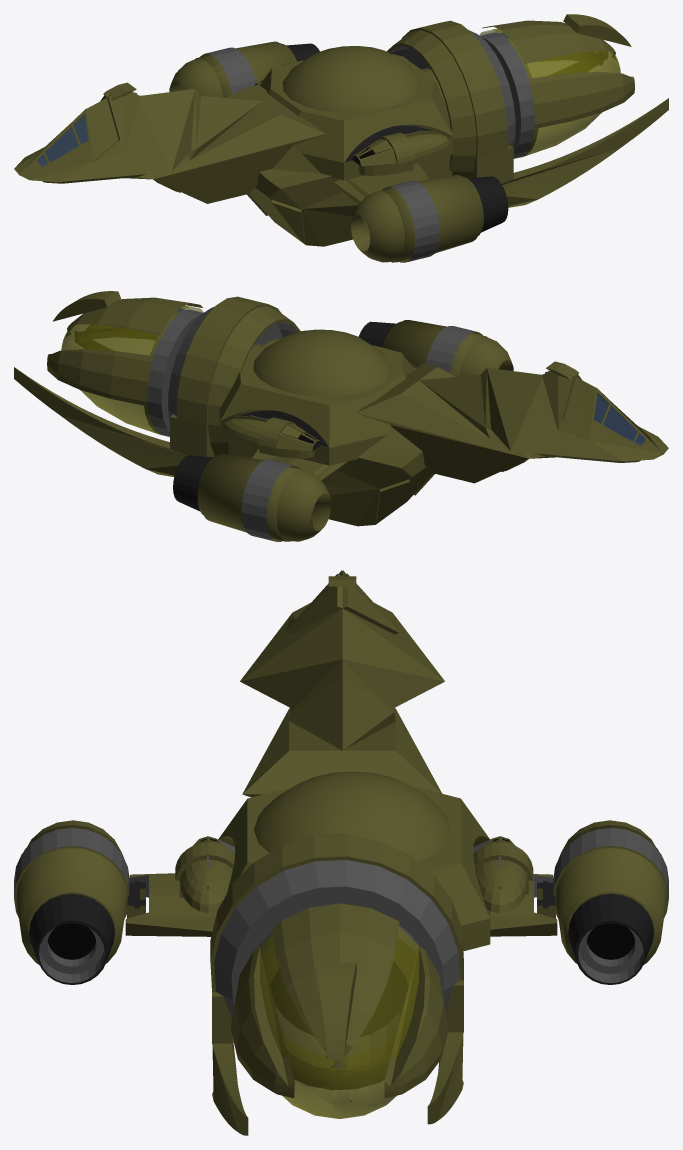
File: serenity.obj
3 views of the same model, one above another, from view 1: azimuth 30°, elevation 25°; view 2: azimuth 150°, elevation 25°; view 3: azimuth 270°, elevation 25° (orthographic). The views are drawn at different scales.
Parts seen in each view (by area): view 1: Mesh3_Model_Mesh3_Model__Blue_Tile__Mesh3_Model_Mesh3_Model.008, Mesh3_Model_Mesh3_Model__Blue_Tile__Mesh3_Model_Mesh3_Model.002, Mesh3_Model_Mesh3_Model__Blue_Tile__Mesh3_Model_Mesh3_Model.007, Mesh3_Model_Mesh3_Model__Blue_Tile__Mesh3_Model_Mesh3_Model.005, Mesh3_Model_Mesh3_Model__Blue_Tile__Mesh3_Model_Mesh3_Model.001, Mesh3_Model_Mesh3_Model__Blue_Tile__Mesh3_Model_Mesh3_Model.009; view 2: Mesh3_Model_Mesh3_Model__Blue_Tile__Mesh3_Model_Mesh3_Model.008, Mesh3_Model_Mesh3_Model__Blue_Tile__Mesh3_Model_Mesh3_Model.002, Mesh3_Model_Mesh3_Model__Blue_Tile__Mesh3_Model_Mesh3_Model.007, Mesh3_Model_Mesh3_Model__Blue_Tile__Mesh3_Model_Mesh3_Model.005, Mesh3_Model_Mesh3_Model__Blue_Tile__Mesh3_Model_Mesh3_Model.001, Mesh3_Model_Mesh3_Model__Blue_Tile__Mesh3_Model_Mesh3_Model.009; view 3: Mesh3_Model_Mesh3_Model__Blue_Tile__Mesh3_Model_Mesh3_Model.008, Mesh3_Model_Mesh3_Model__Blue_Tile__Mesh3_Model_Mesh3_Model.002, Mesh3_Model_Mesh3_Model__Blue_Tile__Mesh3_Model_Mesh3_Model.007, Mesh3_Model_Mesh3_Model__Blue_Tile__Mesh3_Model_Mesh3_Model.005, Mesh3_Model_Mesh3_Model__Blue_Tile__Mesh3_Model_Mesh3_Model__Bl, Mesh3_Model_Mesh3_Model__Blue_Tile__Mesh3_Model_Mesh3_Model.006.
Part boxes in pixels (<box>): Mesh3_Model_Mesh3_Model__Blue_Tile__Mesh3_Model_Mesh3_Model.008: <box>14,14,668,262</box>; Mesh3_Model_Mesh3_Model__Blue_Tile__Mesh3_Model_Mesh3_Model.002: <box>204,30,538,262</box>; Mesh3_Model_Mesh3_Model__Blue_Tile__Mesh3_Model_Mesh3_Model.007: <box>479,28,620,158</box>; Mesh3_Model_Mesh3_Model__Blue_Tile__Mesh3_Model_Mesh3_Model.005: <box>286,43,508,232</box>; Mesh3_Model_Mesh3_Model__Blue_Tile__Mesh3_Model_Mesh3_Model.001: <box>37,113,88,167</box>; Mesh3_Model_Mesh3_Model__Blue_Tile__Mesh3_Model_Mesh3_Model.009: <box>255,84,437,165</box>; Mesh3_Model_Mesh3_Model__Blue_Tile__Mesh3_Model_Mesh3_Model.008: <box>14,291,668,541</box>; Mesh3_Model_Mesh3_Model__Blue_Tile__Mesh3_Model_Mesh3_Model.002: <box>144,306,476,541</box>; Mesh3_Model_Mesh3_Model__Blue_Tile__Mesh3_Model_Mesh3_Model.007: <box>61,306,203,435</box>; Mesh3_Model_Mesh3_Model__Blue_Tile__Mesh3_Model_Mesh3_Model.005: <box>173,321,395,511</box>; Mesh3_Model_Mesh3_Model__Blue_Tile__Mesh3_Model_Mesh3_Model.001: <box>594,393,645,446</box>; Mesh3_Model_Mesh3_Model__Blue_Tile__Mesh3_Model_Mesh3_Model.009: <box>235,410,328,451</box>; Mesh3_Model_Mesh3_Model__Blue_Tile__Mesh3_Model_Mesh3_Model.008: <box>14,570,668,1135</box>; Mesh3_Model_Mesh3_Model__Blue_Tile__Mesh3_Model_Mesh3_Model.002: <box>14,828,668,1056</box>; Mesh3_Model_Mesh3_Model__Blue_Tile__Mesh3_Model_Mesh3_Model.007: <box>259,927,419,1118</box>; Mesh3_Model_Mesh3_Model__Blue_Tile__Mesh3_Model_Mesh3_Model.005: <box>29,894,653,1036</box>; Mesh3_Model_Mesh3_Model__Blue_Tile__Mesh3_Model_Mesh3_Model__Bl: <box>48,838,634,959</box>; Mesh3_Model_Mesh3_Model__Blue_Tile__Mesh3_Model_Mesh3_Model.006: <box>578,927,643,983</box>.
Bounding box in the file's own units: 19.12 × 5.51 × 11.84.
